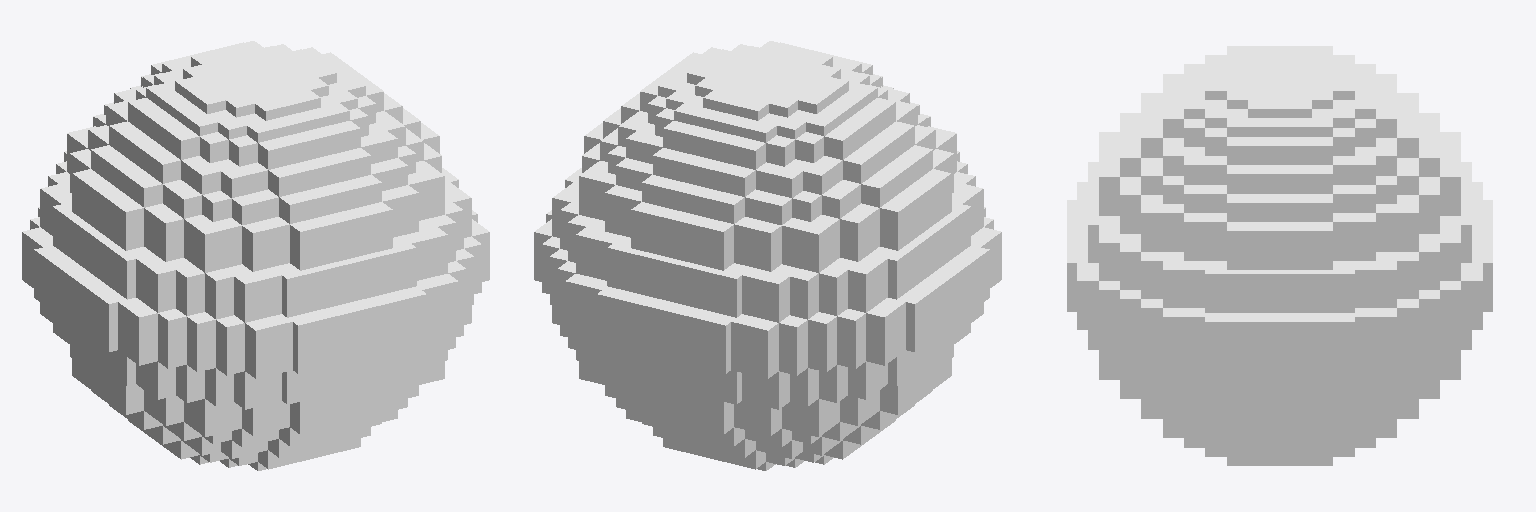
File: planeta3.obj
3 views of the same model, side by side, from view 1: azimuth 30°, elevation 25°; view 2: azimuth 150°, elevation 25°; view 3: azimuth 270°, elevation 25° (orthographic).
Parts seen in each view (by area): view 1: object 1; view 2: object 1; view 3: object 1.
Part boxes in pixels (x1,y1,x2,y2): object 1: (22, 41, 489, 470); object 1: (534, 41, 1001, 470); object 1: (1067, 46, 1492, 465).
Size of the model in its own units: 4 by 3.7 by 4.